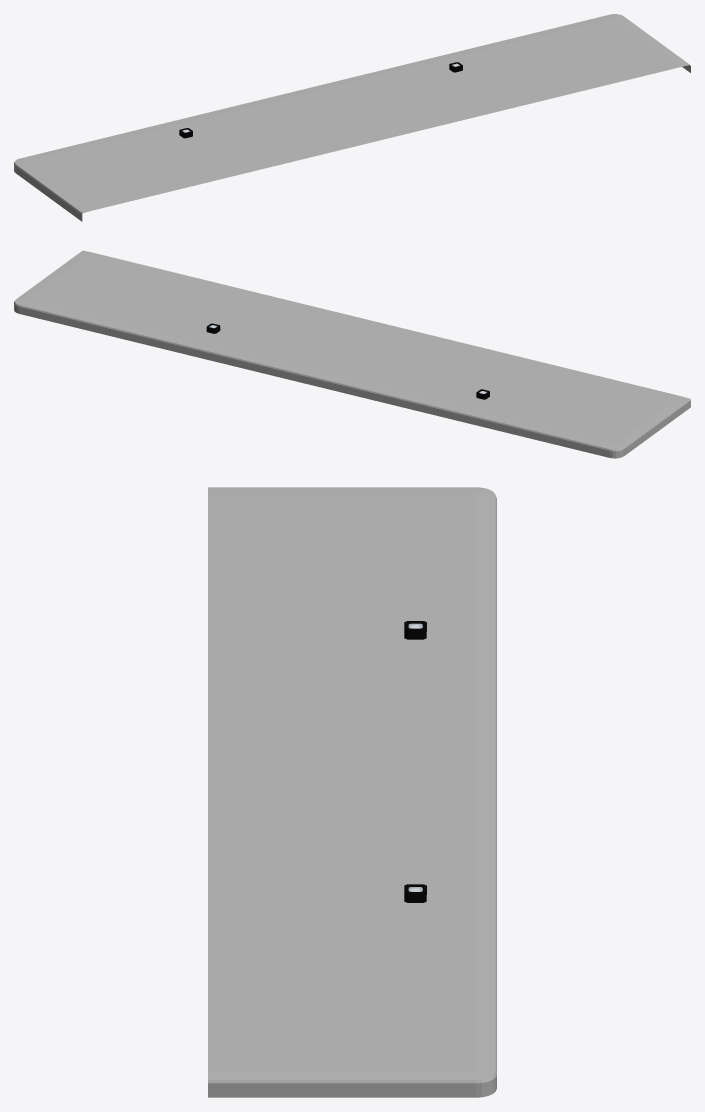
Rendered from EscalonLado.fbx.
3 views of the same model, one above another, from view 1: azimuth 30°, elevation 25°; view 2: azimuth 150°, elevation 25°; view 3: azimuth 270°, elevation 25° (orthographic). The views are drawn at different scales.
Visible parts, largest first — view 1: floor_white1; view 2: floor_white1; view 3: floor_white1.
Boxes of the visible parts, <box> form: floor_white1: <box>14,14,690,221</box>; floor_white1: <box>14,250,690,458</box>; floor_white1: <box>208,487,496,1097</box>.
Size of the model in its own units: 8.78 by 0.2079 by 1.8.
Materials: 3 (1 with a texture image).
